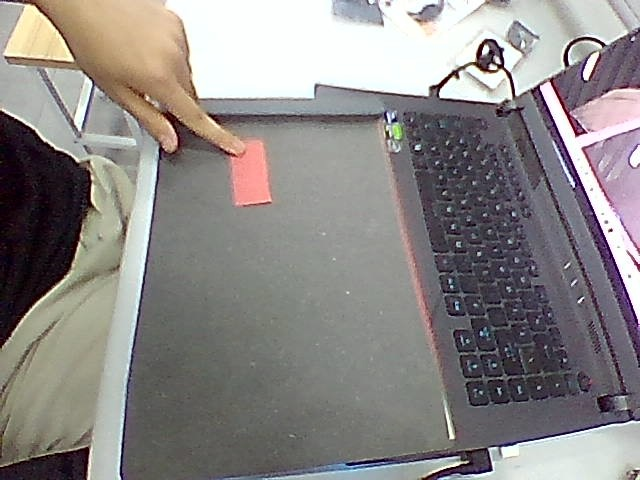card: (231, 140, 271, 206)
